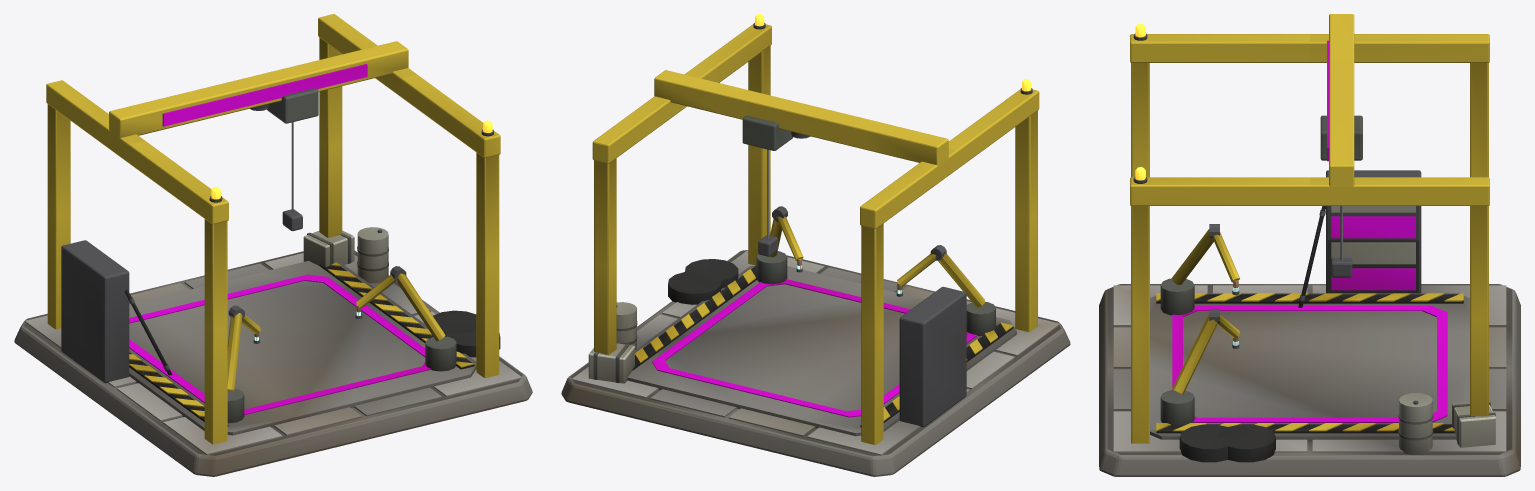
Rendered from repair_bay.glb.
3 renders of one model, left to right at view 1: azimuth 30°, elevation 25°; view 2: azimuth 150°, elevation 25°; view 3: azimuth 270°, elevation 25°, orthographic. The views are drawn at different scales.
Visible parts, largest first — view 1: Body; view 2: Body; view 3: Body.
Part boxes in pixels (left/top/right/bottom): Body: left=14, top=14, right=532, bottom=476; Body: left=561, top=14, right=1070, bottom=476; Body: left=1099, top=14, right=1520, bottom=476.
Size of the model in its own units: 4.06 by 3.12 by 3.98.
Materials: 1 (1 with a texture image).
